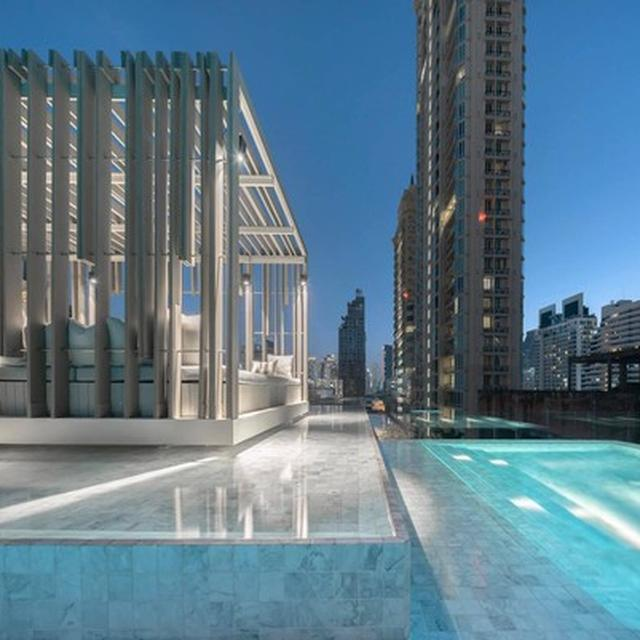building: (0, 43, 306, 442), (386, 0, 520, 419), (518, 271, 640, 400), (332, 276, 376, 404)
